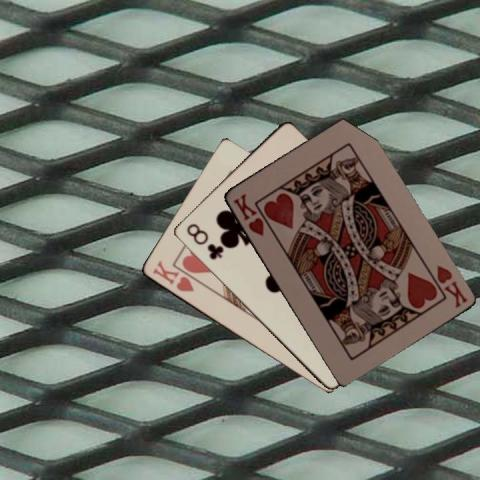8c: (183, 221, 225, 261)
Kh: (230, 190, 265, 238), (433, 261, 468, 309), (149, 258, 195, 293)
